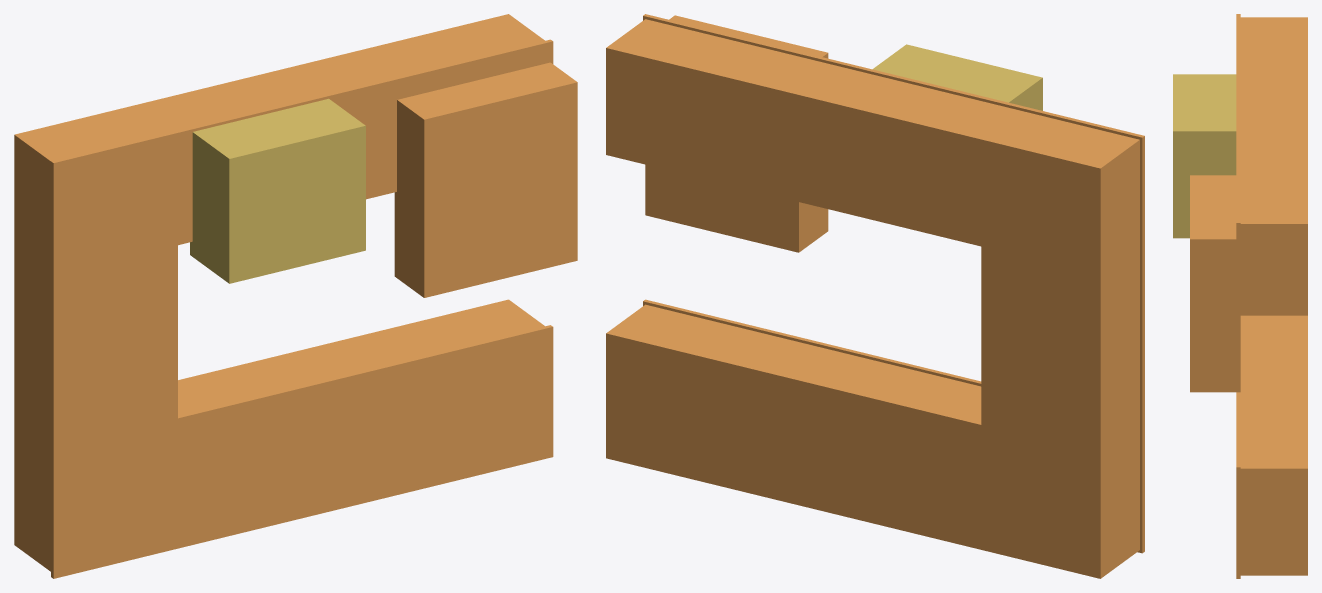
File: modelo.obj
The picture shows the model from 3 angles, left to right: view 1: azimuth 30°, elevation 25°; view 2: azimuth 150°, elevation 25°; view 3: azimuth 270°, elevation 25°; orthographic projection. The views are drawn at different scales.
Parts seen in each view (by area): view 1: locales_frente_cornisa_1, ala_izquierda_cornisa_3, oficina_B_7, oficina_A_6, locales_frente_0, ala_izquierda_2, ala_fondo_4, ala_fondo_cornisa_5; view 2: locales_frente_0, ala_fondo_4, ala_izquierda_2, oficina_B_7, oficina_A_6, locales_frente_cornisa_1, ala_fondo_cornisa_5, ala_izquierda_cornisa_3; view 3: locales_frente_0, ala_fondo_4, oficina_B_7, oficina_A_6, ala_izquierda_2, ala_fondo_cornisa_5, locales_frente_cornisa_1, ala_izquierda_cornisa_3.
Boxes of the visible parts, x1,y1,x2,y2 form: locales_frente_cornisa_1: [51, 325, 553, 578]; ala_izquierda_cornisa_3: [51, 131, 177, 448]; oficina_B_7: [394, 62, 577, 297]; oficina_A_6: [190, 98, 365, 283]; locales_frente_0: [14, 299, 544, 571]; ala_izquierda_2: [14, 105, 169, 446]; ala_fondo_4: [134, 14, 544, 132]; ala_fondo_cornisa_5: [171, 39, 553, 245]; locales_frente_0: [606, 304, 1139, 578]; ala_fondo_4: [606, 19, 1019, 246]; ala_izquierda_2: [981, 110, 1139, 453]; oficina_B_7: [645, 15, 828, 252]; oficina_A_6: [872, 44, 1042, 110]; locales_frente_cornisa_1: [643, 299, 1144, 553]; ala_fondo_cornisa_5: [643, 14, 1024, 110]; ala_izquierda_cornisa_3: [1018, 105, 1144, 427]; locales_frente_0: [1240, 315, 1307, 575]; ala_fondo_4: [1240, 67, 1307, 315]; oficina_B_7: [1190, 175, 1240, 392]; oficina_A_6: [1173, 74, 1236, 238]; ala_izquierda_2: [1240, 17, 1307, 67]; ala_fondo_cornisa_5: [1236, 66, 1240, 318]; locales_frente_cornisa_1: [1236, 392, 1240, 578]; ala_izquierda_cornisa_3: [1236, 14, 1240, 65].
Bounding box in the file's own units: 29.3 × 23.3 × 8.
